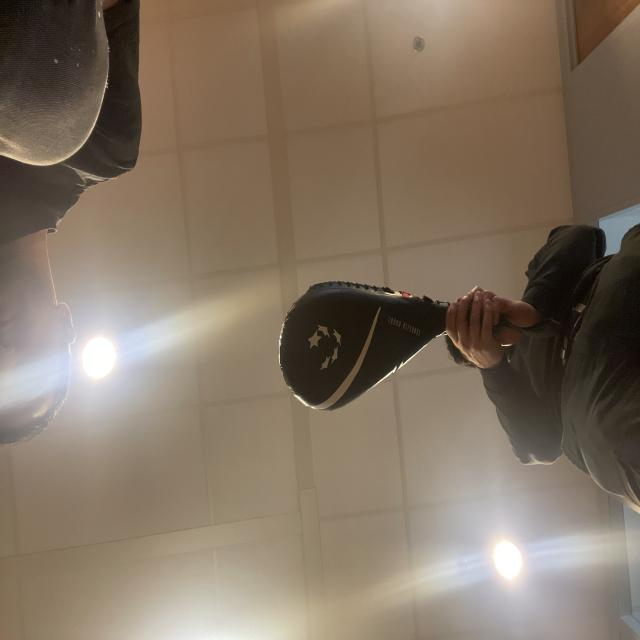paddle: (284, 282, 434, 406)
